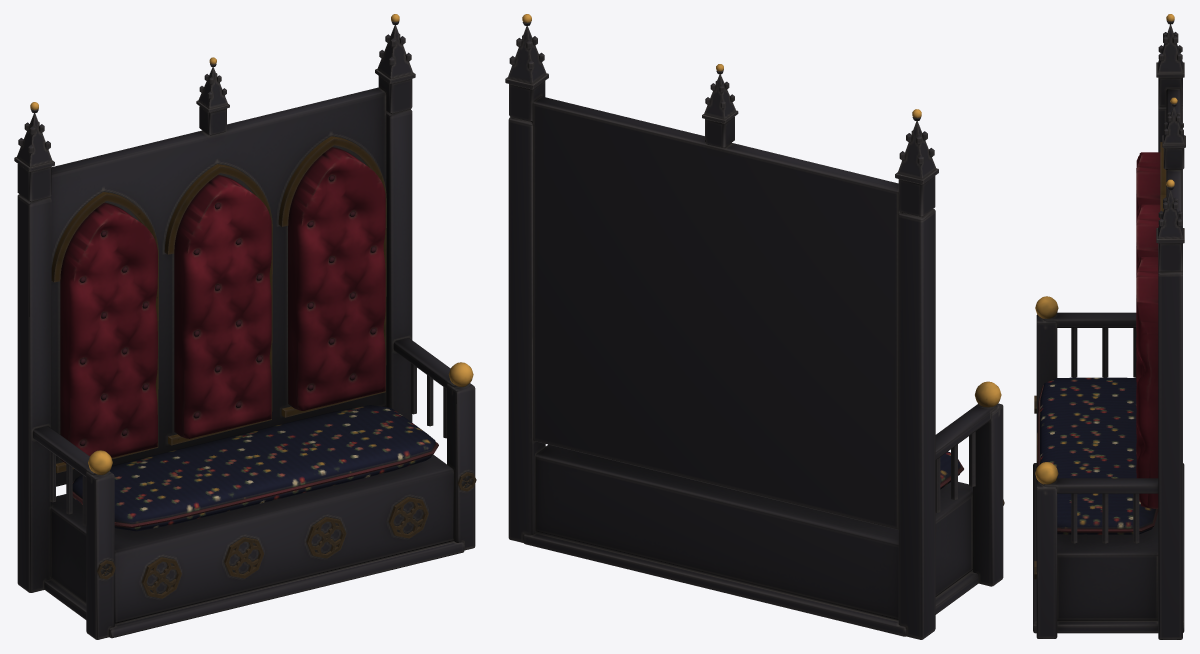
The model's file is GothicSettle.fbx.
3 renders of one model, left to right at view 1: azimuth 30°, elevation 25°; view 2: azimuth 150°, elevation 25°; view 3: azimuth 270°, elevation 25°, orthographic. The views are drawn at different scales.
Visible parts, largest first — view 1: GothicSettle; view 2: GothicSettle; view 3: GothicSettle.
Boxes of the visible parts, bbox=[...] form: GothicSettle: bbox=[14, 14, 476, 639]; GothicSettle: bbox=[505, 14, 1004, 639]; GothicSettle: bbox=[1033, 14, 1185, 639].
Bounding box in the file's own units: 611 × 731 × 222.
